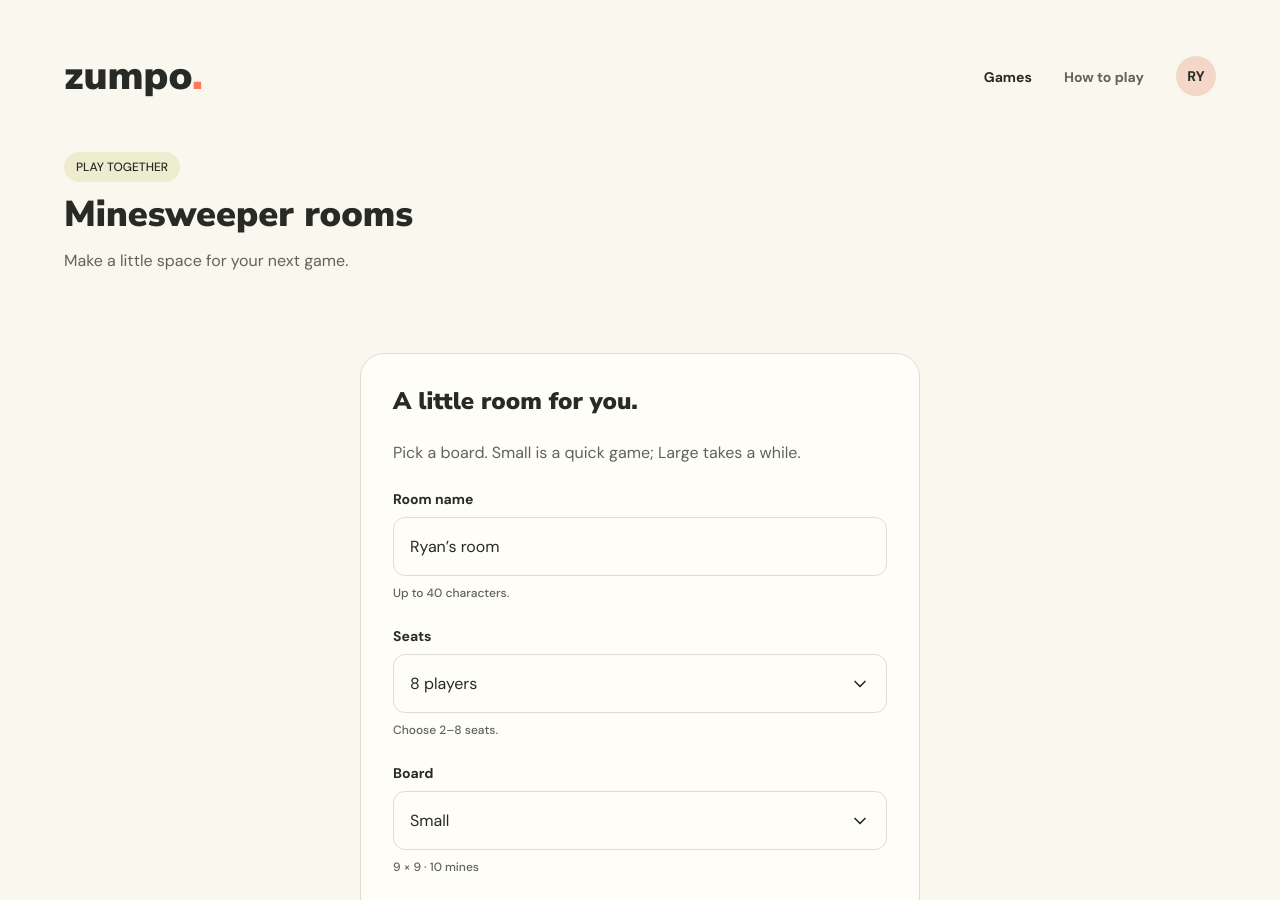
it: making a room › asks for a name before it sends anything
Clear the field labelled "Room name" at {"x": 640, "y": 546}, box [393,517,887,576]
(page scrolled)
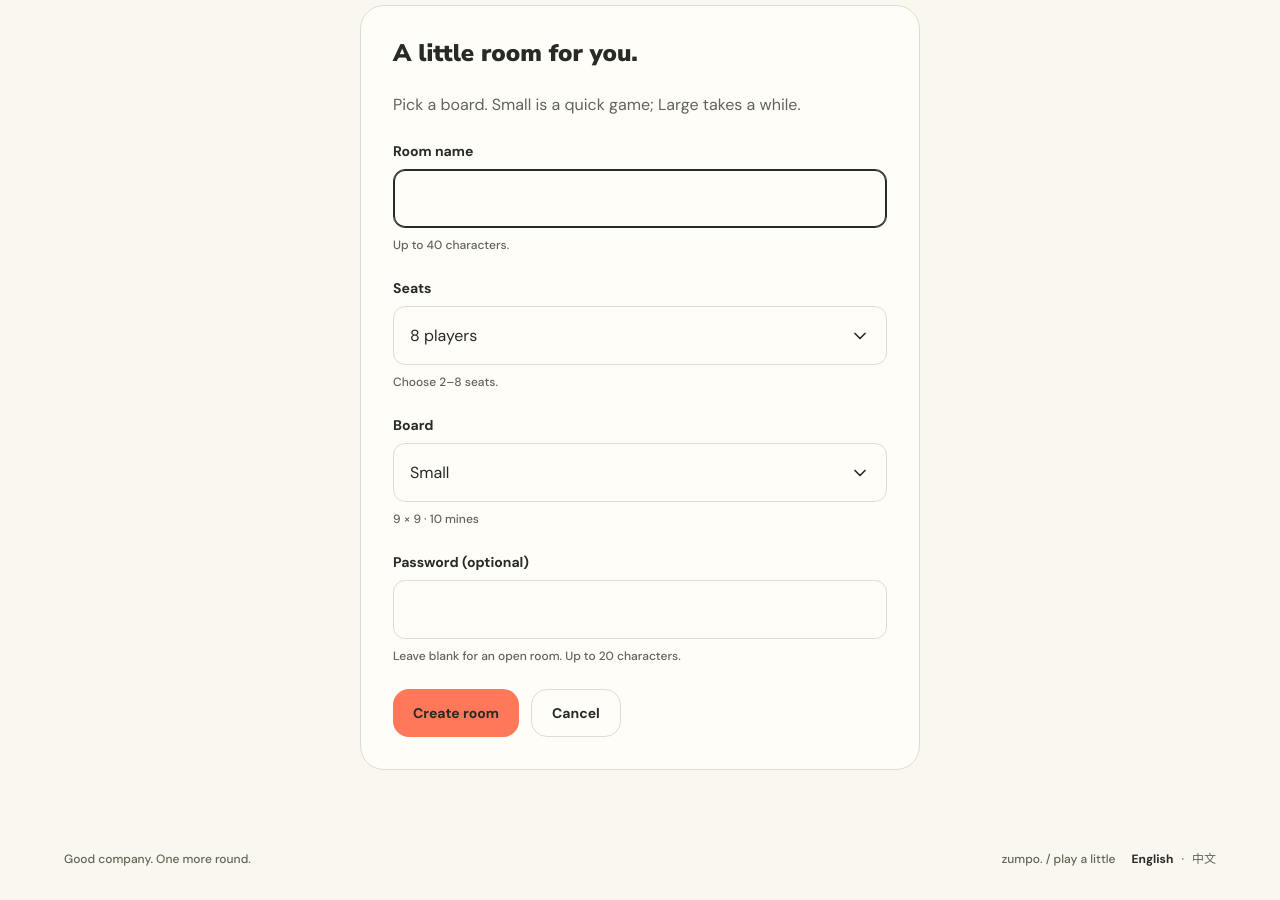
Click the button "Create room" at {"x": 456, "y": 713}, box [393,689,519,737]
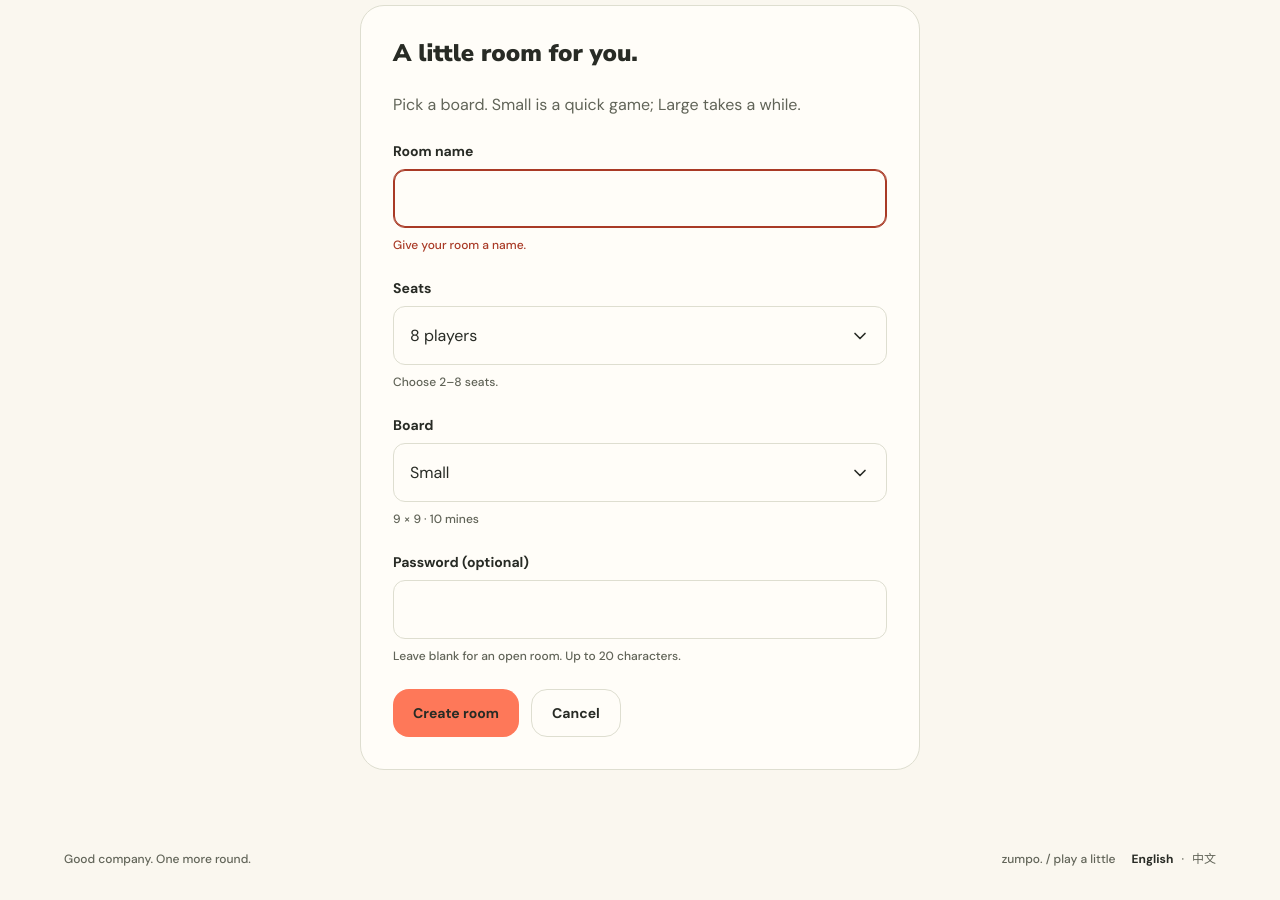
Expected: the text "Give your room a name." is shown, [393,237,526,253]
